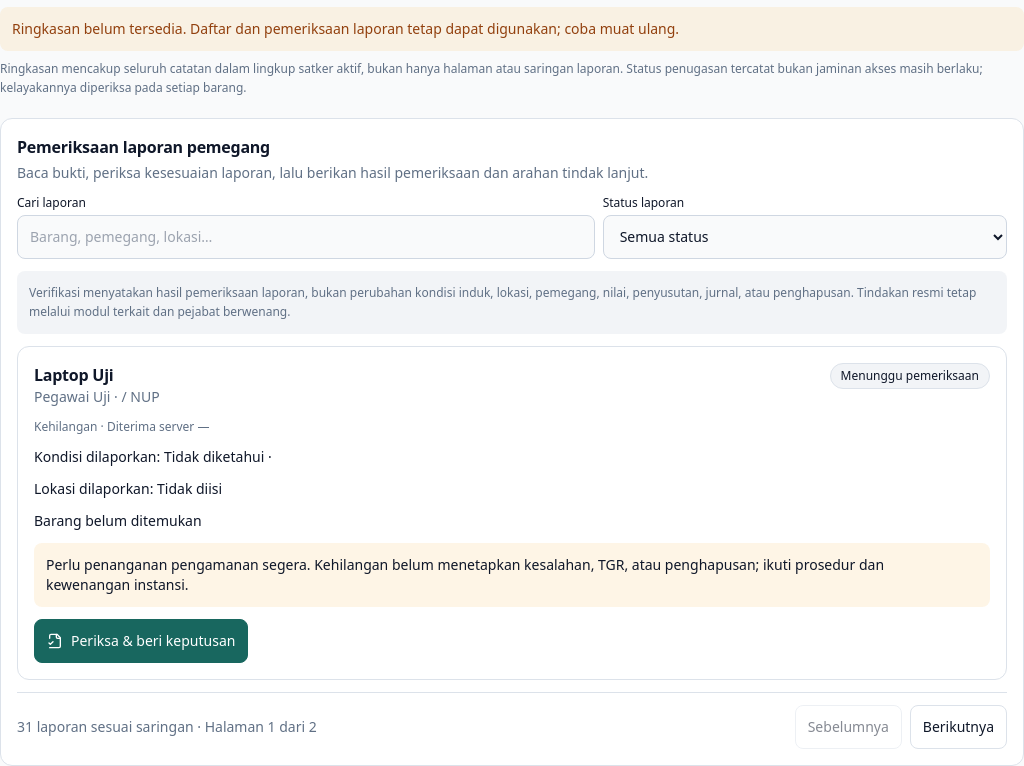
Test case: gagal atau lambat memuat ringkasan tidak menghalangi pemeriksaan laporan
(page scrolled)
Expected: the text "Ringkasan belum tersedia" is shown, x1=12 y1=18 x2=679 y2=38
Click the button with test id "portal-admin-tinjau-r1": (141, 640) x1=34 y1=618 x2=248 y2=662
(page scrolled)
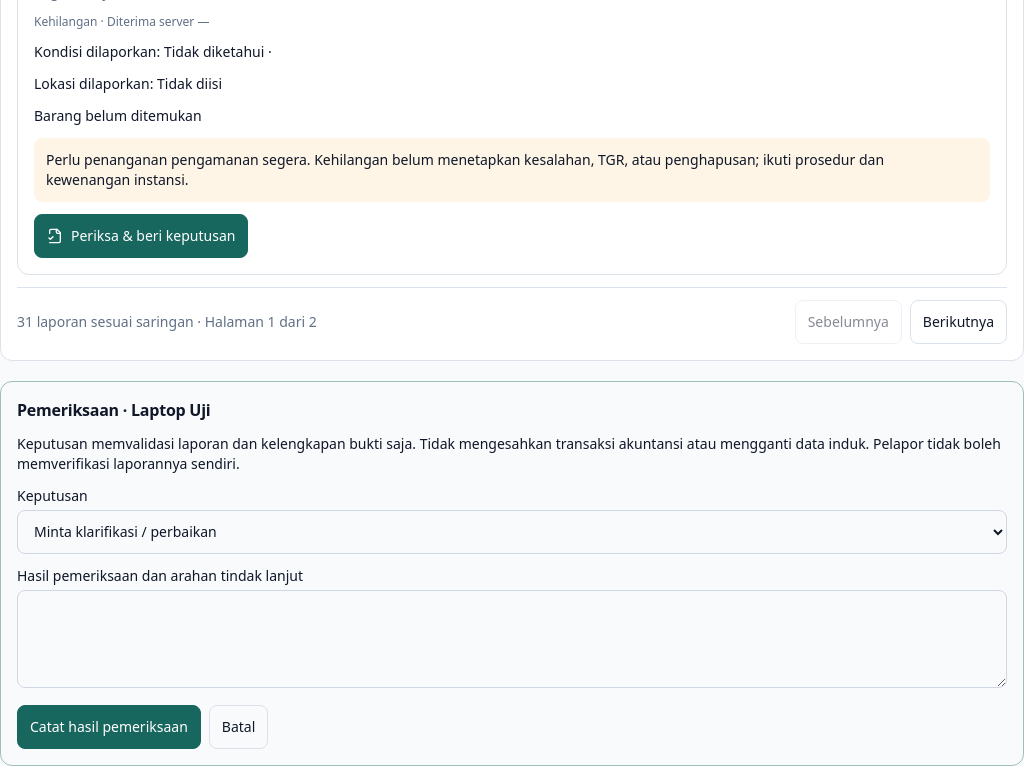
Expected: the button with test id "portal-admin-tinjau-simpan" is shown, x1=17 y1=704 x2=201 y2=748
